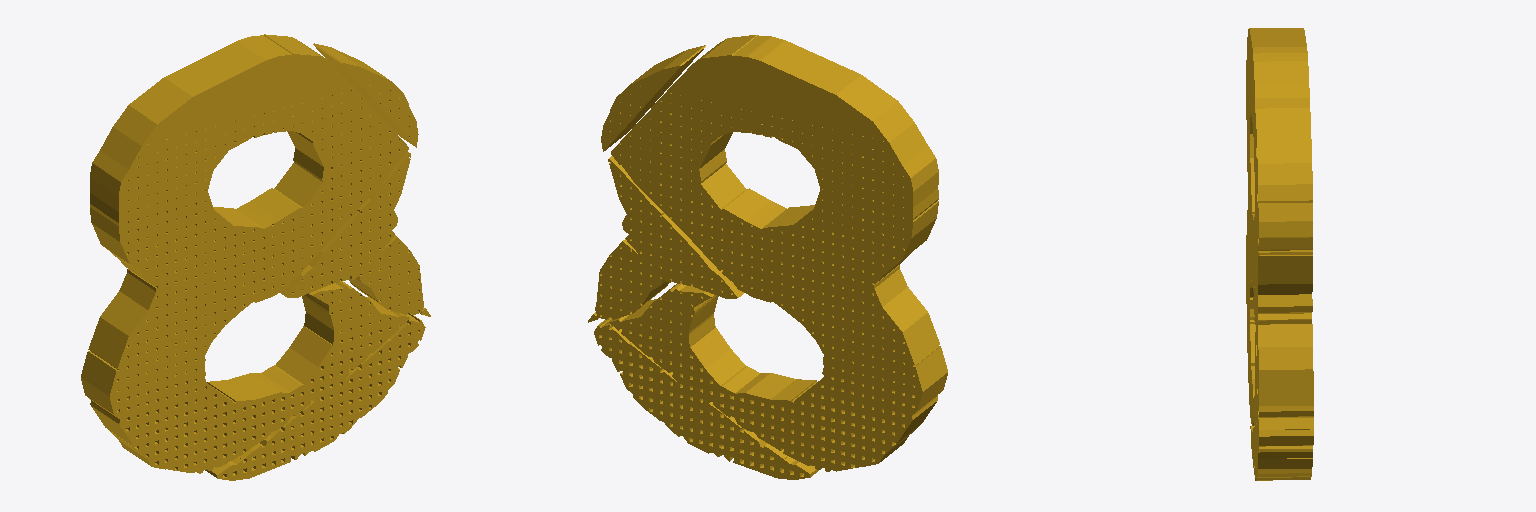
Rendered from 8_naranja.obj.
3 views of the same model, side by side, from view 1: azimuth 30°, elevation 25°; view 2: azimuth 150°, elevation 25°; view 3: azimuth 270°, elevation 25° (orthographic).
Parts seen in each view (by area): view 1: Mesh1 G_8_1 Model, Mesh3 G_8_1 Model, Mesh2 G_8_1 Model; view 2: Mesh1 G_8_1 Model, Mesh3 G_8_1 Model, Mesh2 G_8_1 Model; view 3: Mesh1 G_8_1 Model, Mesh3 G_8_1 Model, Mesh2 G_8_1 Model.
Boxes of the visible parts, x1=… form: Mesh1 G_8_1 Model: x1=81, y1=34, x2=425, y2=480; Mesh3 G_8_1 Model: x1=280, y1=152, x2=430, y2=316; Mesh2 G_8_1 Model: x1=313, y1=43, x2=418, y2=147; Mesh1 G_8_1 Model: x1=594, y1=35, x2=947, y2=479; Mesh3 G_8_1 Model: x1=588, y1=156, x2=743, y2=322; Mesh2 G_8_1 Model: x1=601, y1=45, x2=705, y2=151; Mesh1 G_8_1 Model: x1=1246, y1=28, x2=1313, y2=480; Mesh3 G_8_1 Model: x1=1253, y1=250, x2=1313, y2=429; Mesh2 G_8_1 Model: x1=1256, y1=108, x2=1312, y2=249.
Bounding box in the file's own units: 69.76 × 83.68 × 12.43.